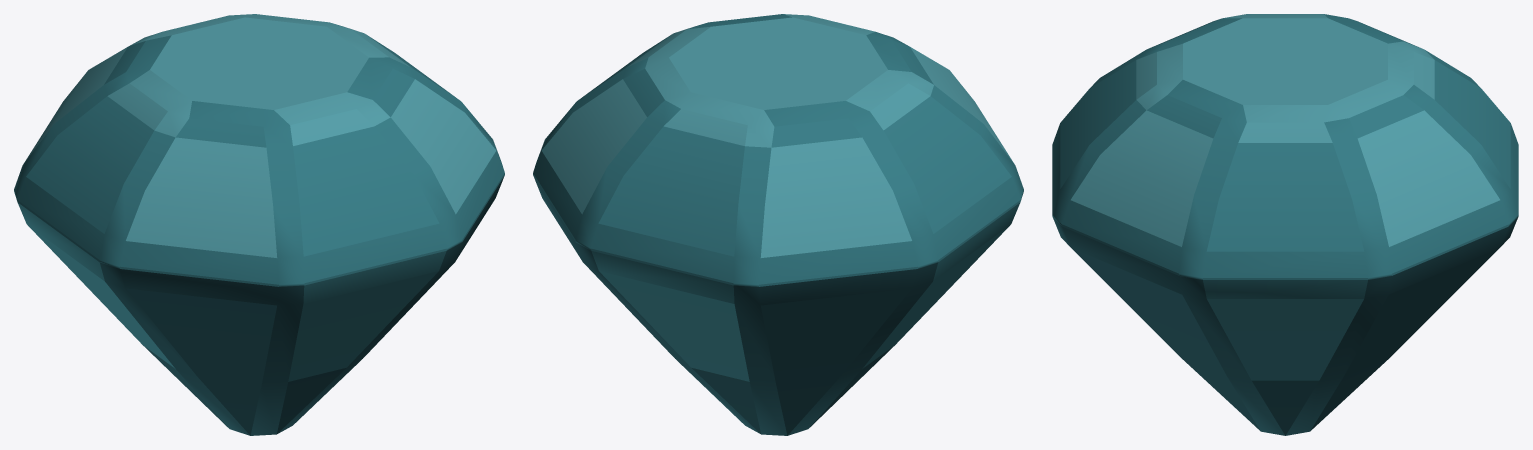
File: Gem_11.glb
3 views of the same model, side by side, from view 1: azimuth 30°, elevation 25°; view 2: azimuth 150°, elevation 25°; view 3: azimuth 270°, elevation 25° (orthographic).
Visible parts, largest first — view 1: Gem_11; view 2: Gem_11; view 3: Gem_11.
Part boxes in pixels (<box>): Gem_11: <box>14,14,504,435</box>; Gem_11: <box>533,14,1023,435</box>; Gem_11: <box>1052,14,1518,435</box>.
Bounding box in the file's own units: 1.01 × 0.8559 × 1.01.
